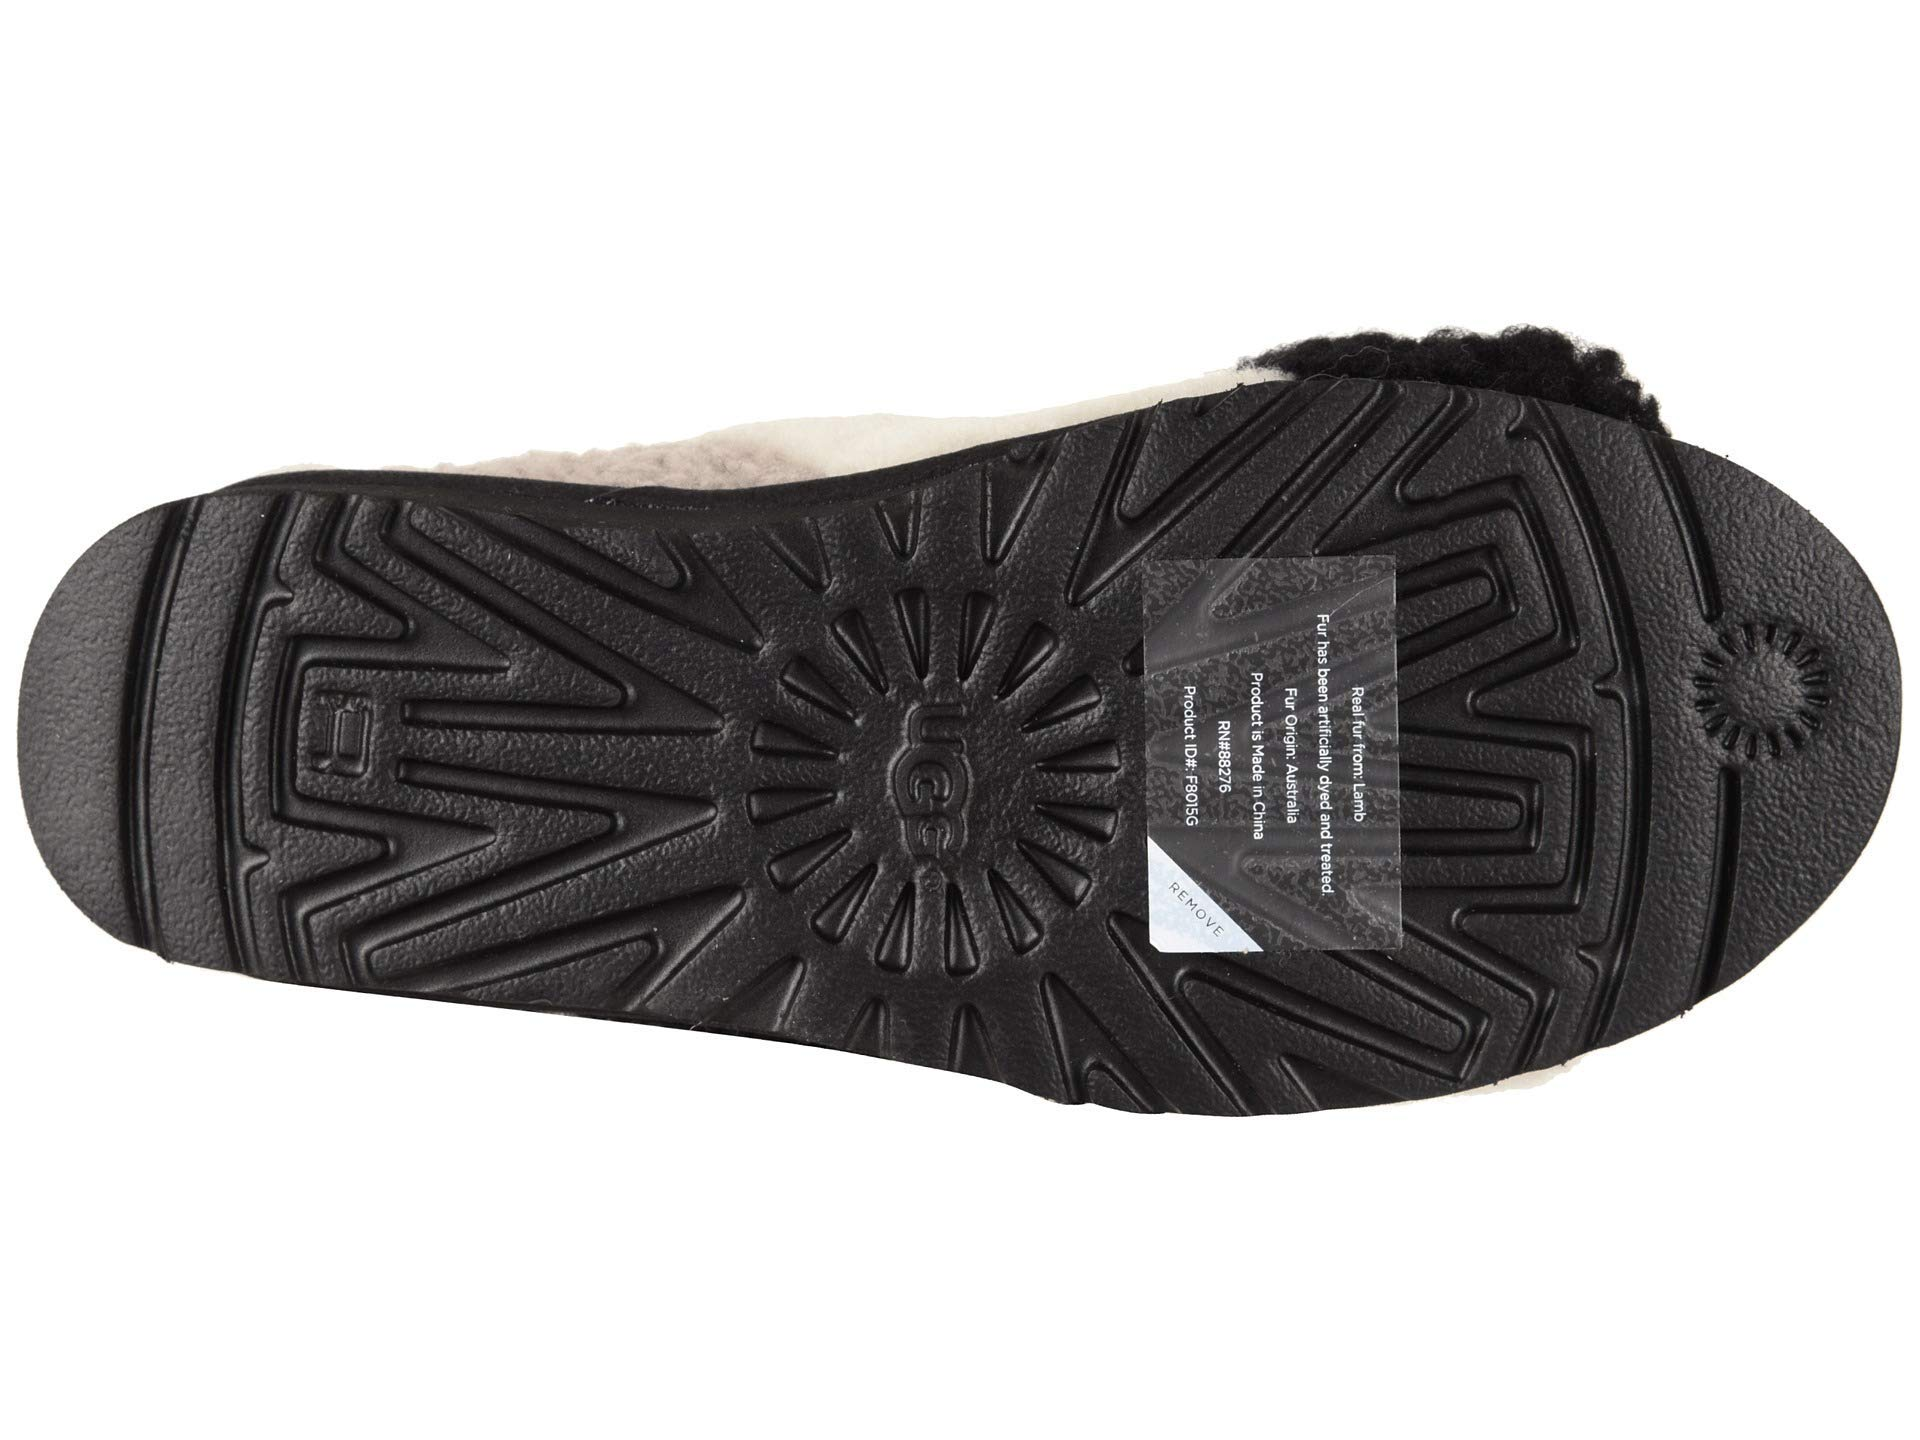circle: (698, 563, 1144, 1007)
star: (698, 563, 1144, 1007)
text: (698, 563, 1144, 1007)
triangle: (698, 563, 1144, 1007)
